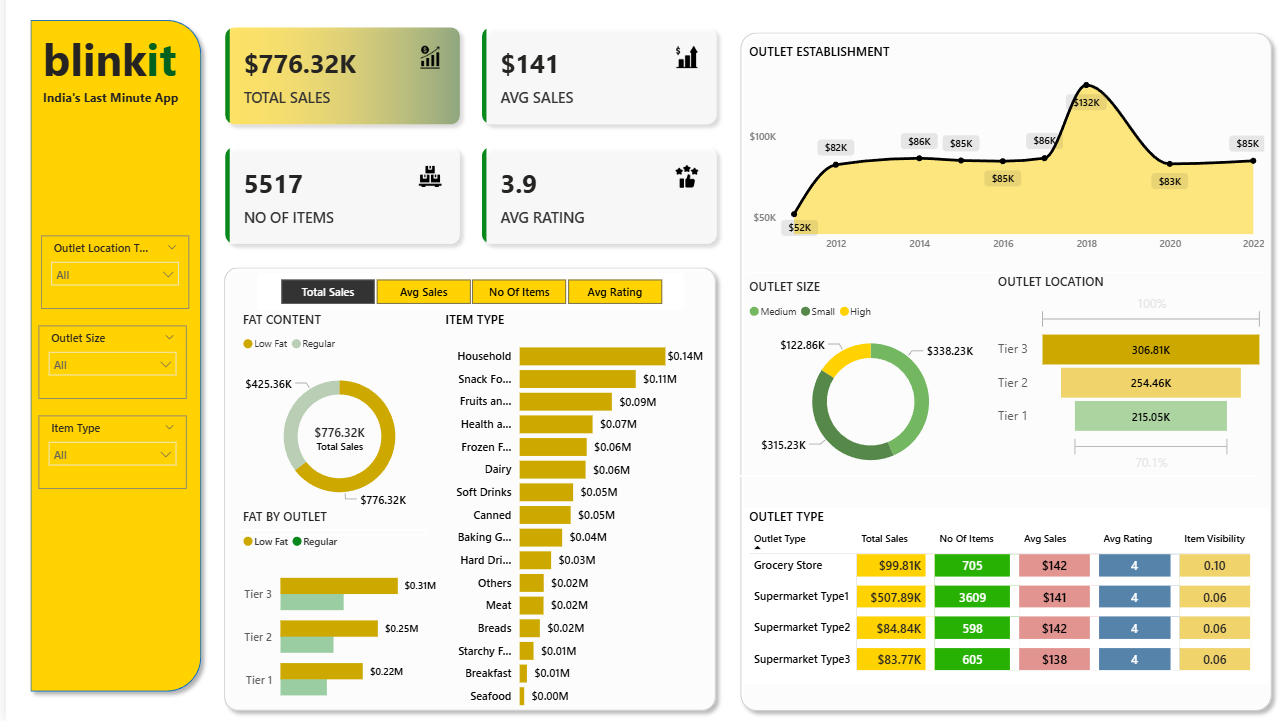

What the dashboard file says about the page in this screenshot:
{"tool":"powerbi","page":{"name":"Page 1","canvas":[1400,800],"ordinal":0},"visuals":[{"type":"shape","box":[18,25.5,204.1,750.4],"z":0},{"type":"textbox","box":[36,39,168.1,84],"z":1000},{"type":"textbox","box":[36,105.1,168.1,36],"z":2000},{"type":"cardVisual","fields":{"Data":["BlinkIT Grocery Data.Total Sales","BlinkIT Grocery Data.Avg Sales","BlinkIT Grocery Data.No Of Items","BlinkIT Grocery Data.Avg Rating"]},"box":[222.1,25.5,570.3,270.2],"z":3000},{"type":"shape","box":[229.6,295.7,554,501.3],"z":4000},{"type":"donutChart","title":"FAT CONTENT","fields":{"Y":["BlinkIT Grocery Data.Total Sales"],"Category":["BlinkIT Grocery Data.Item Fat Content"]},"box":[253.6,351.2,220.6,229.6],"z":5000},{"type":"slicer","fields":{"Values":["Metrics.Metrics"]},"box":[274.7,310.7,465.3,40.5],"z":6000},{"type":"cardVisual","fields":{"Data":["BlinkIT Grocery Data.Total Sales"]},"box":[294.2,448.8,139.6,84],"z":7000},{"type":"clusteredBarChart","title":"FAT BY OUTLET","fields":{"Y":["BlinkIT Grocery Data.Total Sales"],"Category":["BlinkIT Grocery Data.Outlet Location Type"],"Series":["BlinkIT Grocery Data.Item Fat Content"]},"box":[253.6,567.3,220.6,229.6],"z":8000},{"type":"shape","box":[253.6,585.3,205.6,12],"z":9000},{"type":"shape","box":[254.6,590.8,205.6,12],"z":10000},{"type":"barChart","title":"ITEM TYPE","fields":{"Y":["BlinkIT Grocery Data.Total Sales"],"Category":["BlinkIT Grocery Data.Item Type"]},"box":[474.3,351.2,291.2,445.8],"z":11000},{"type":"shape","box":[792.5,39,597.3,757.9],"z":12000},{"type":"lineChart","title":"OUTLET ESTABLISHMENT","fields":{"Category":["BlinkIT Grocery Data.Outlet Establishment Year"],"Y":["BlinkIT Grocery Data.Total Sales"]},"box":[806,60,571.8,235.6],"z":13000},{"type":"shape","box":[806,304.7,571.8,12],"z":13001},{"type":"donutChart","title":"OUTLET SIZE","fields":{"Y":["BlinkIT Grocery Data.Total Sales"],"Category":["BlinkIT Grocery Data.Outlet Size"]},"box":[806,316.7,275,225],"z":13002},{"type":"funnel","title":"OUTLET LOCATION","fields":{"Y":["Sum(BlinkIT Grocery Data.Sales)"],"Category":["BlinkIT Grocery Data.Outlet Location Type"]},"box":[1077.6,310.7,300.2,222.1],"z":13003},{"type":"shape","box":[795.5,526.8,571.8,12],"z":13004},{"type":"pivotTable","title":"OUTLET TYPE","fields":{"Rows":["BlinkIT Grocery Data.Outlet Type"],"Values":["BlinkIT Grocery Data.Total Sales","BlinkIT Grocery Data.No Of Items","BlinkIT Grocery Data.Avg Sales","BlinkIT Grocery Data.Avg Rating","Avg(BlinkIT Grocery Data.Item Visibility)"]},"box":[805.7,567.1,572.6,192.2],"z":13005},{"type":"slicer","fields":{"Values":["BlinkIT Grocery Data.Outlet Location Type"]},"box":[38.6,270,161.4,80],"z":13006},{"type":"slicer","fields":{"Values":["BlinkIT Grocery Data.Outlet Size"]},"box":[35.7,368.6,161.4,80],"z":13007},{"type":"slicer","fields":{"Values":["BlinkIT Grocery Data.Item Type"]},"box":[35.7,465.7,161.4,80],"z":13008}]}

Visuals, with their boxes in screenshot pixels (x1, y1, x2, y2), scaled from the page's 1400x800 canvas onto the 1288x721 screenshot:
shape: 17,23,204,699
textbox: 33,35,188,111
textbox: 33,95,188,127
cardVisual - BlinkIT Grocery Data.Total Sales x BlinkIT Grocery Data.Avg Sales: 204,23,729,266
shape: 211,266,721,718
"FAT CONTENT" donutChart: 233,317,436,523
slicer - Metrics.Metrics: 253,280,681,317
cardVisual - BlinkIT Grocery Data.Total Sales: 271,404,399,480
"FAT BY OUTLET" clusteredBarChart: 233,511,436,718
shape: 233,528,422,538
shape: 234,532,423,543
"ITEM TYPE" barChart: 436,317,704,718
shape: 729,35,1279,718
"OUTLET ESTABLISHMENT" lineChart: 742,54,1268,266
shape: 742,275,1268,285
"OUTLET SIZE" donutChart: 742,285,995,488
"OUTLET LOCATION" funnel: 991,280,1268,480
shape: 732,475,1258,486
"OUTLET TYPE" pivotTable: 741,511,1268,684
slicer - BlinkIT Grocery Data.Outlet Location Type: 36,243,184,315
slicer - BlinkIT Grocery Data.Outlet Size: 33,332,181,404
slicer - BlinkIT Grocery Data.Item Type: 33,420,181,492
